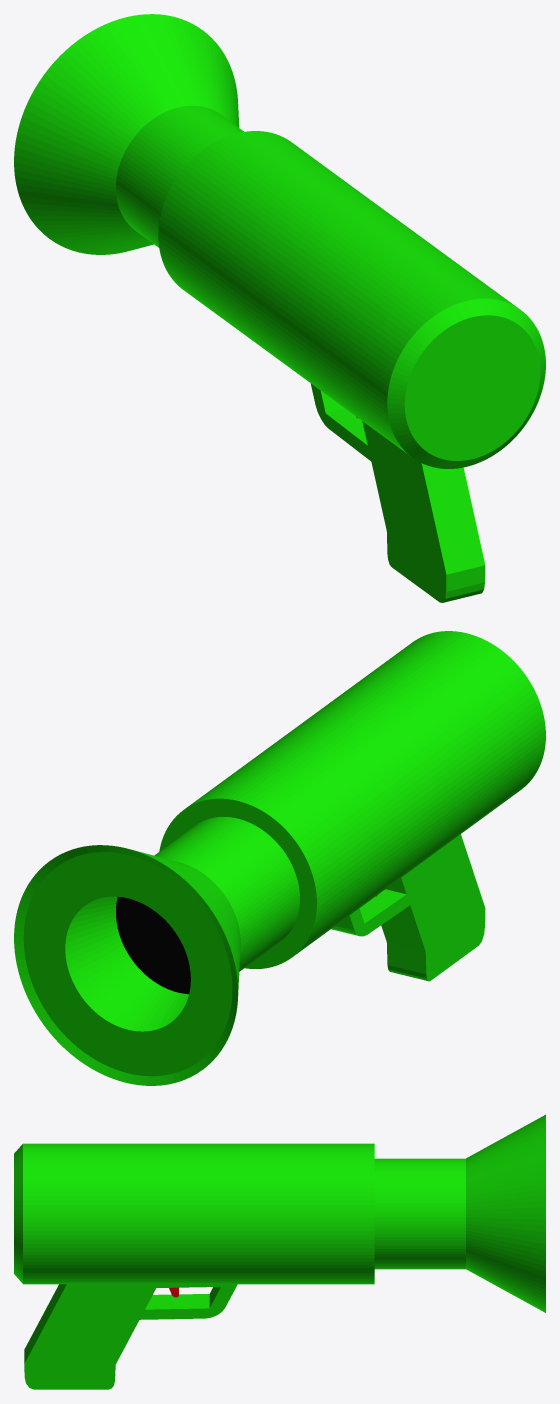
Rendered from Pulse Gun.fbx.
The picture shows the model from 3 angles, top to bottom: view 1: azimuth 30°, elevation 25°; view 2: azimuth 150°, elevation 25°; view 3: azimuth 270°, elevation 25°; orthographic projection. The views are drawn at different scales.
Parts seen in each view (by area): view 1: Cylinder, Handle; view 2: Cylinder, Handle; view 3: Cylinder, Handle.
Part boxes in pixels (bbox=[...]): Cylinder: bbox=[14, 14, 545, 468]; Handle: bbox=[310, 383, 485, 602]; Cylinder: bbox=[14, 631, 545, 1085]; Handle: bbox=[331, 834, 485, 981]; Cylinder: bbox=[14, 1114, 545, 1312]; Handle: bbox=[24, 1284, 237, 1389].
Bounding box in the file's own units: 56.52 × 81.09 × 151.
